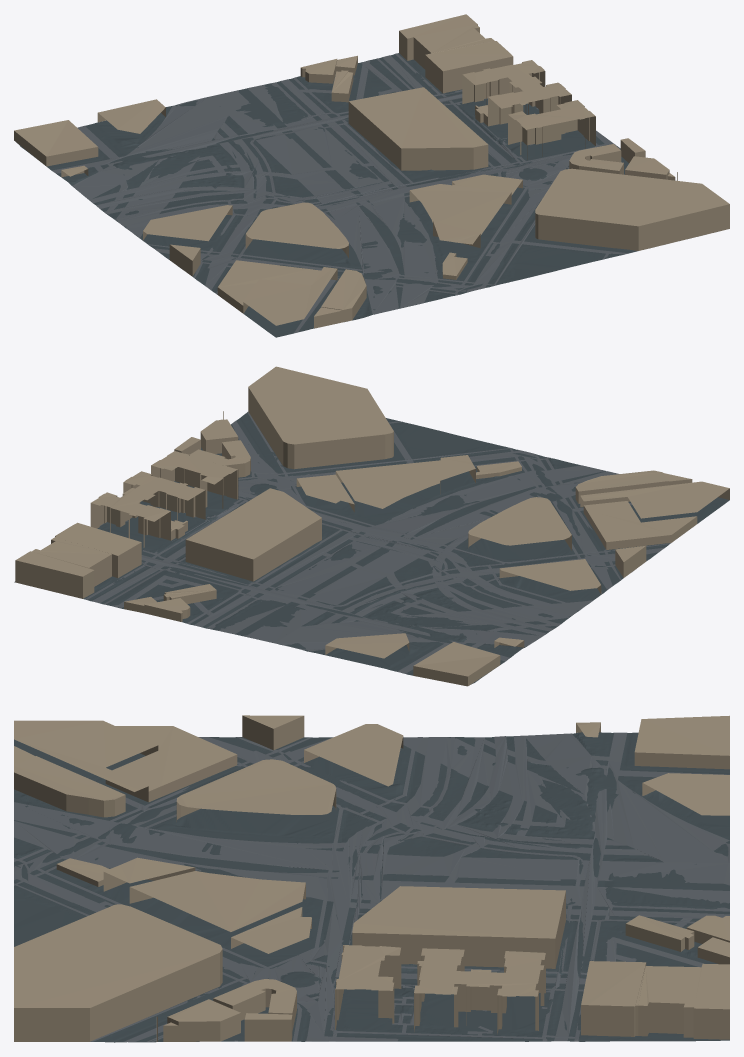
Rendered from epsg26910-1438-10886.lod0.glb.
3 views of the same model, one above another, from view 1: azimuth 30°, elevation 25°; view 2: azimuth 150°, elevation 25°; view 3: azimuth 270°, elevation 25° (orthographic). The views are drawn at different scales.
Parts seen in each view (by area): view 1: epsg26910-1438-10886-lod0; view 2: epsg26910-1438-10886-lod0; view 3: epsg26910-1438-10886-lod0.
Boxes of the visible parts, box(x1,y1,x2,y2) form: epsg26910-1438-10886-lod0: box(14, 14, 729, 337); epsg26910-1438-10886-lod0: box(14, 366, 729, 686); epsg26910-1438-10886-lod0: box(14, 715, 729, 1042).
Bounding box in the file's own units: 384 × 25.88 × 384.
